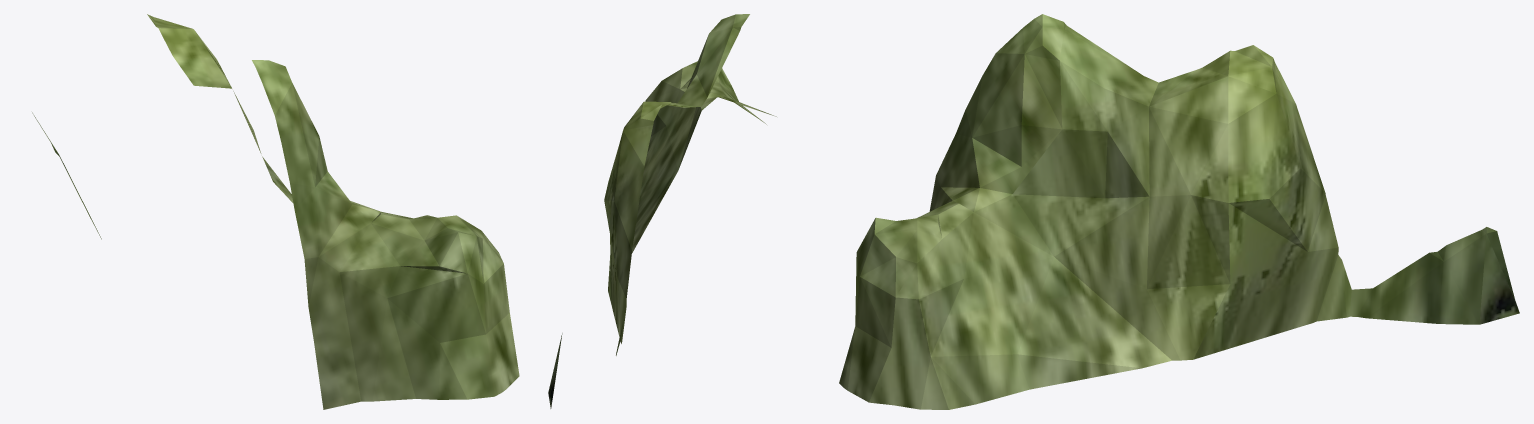
The picture shows the model from 3 angles, left to right: view 1: azimuth 30°, elevation 25°; view 2: azimuth 150°, elevation 25°; view 3: azimuth 270°, elevation 25°; orthographic projection. The views are drawn at different scales.
Bounding box in the file's own units: 0.8476 × 1.22 × 2.52.
Materials: 1 (1 with a texture image).
